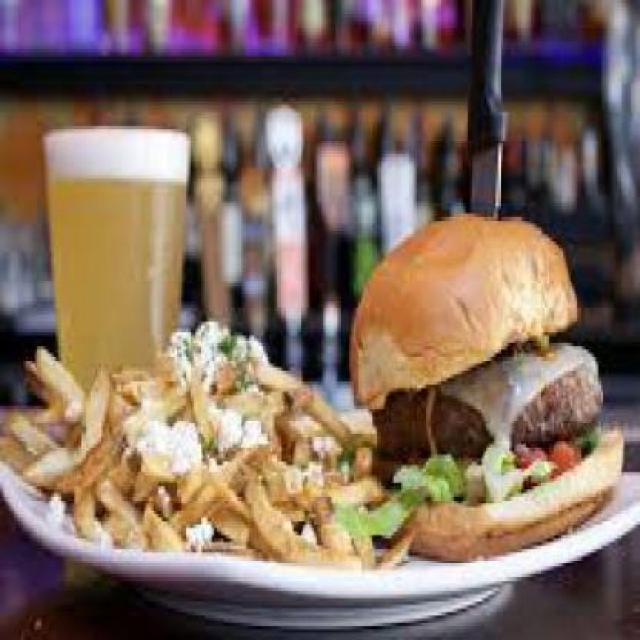french fries: (7, 308, 398, 588)
hamburger: (358, 195, 624, 552)
